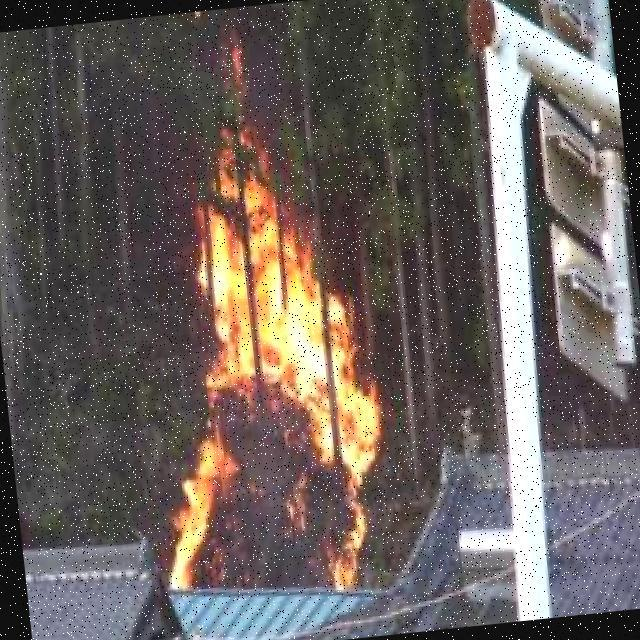Fire: (125, 120, 395, 580)
